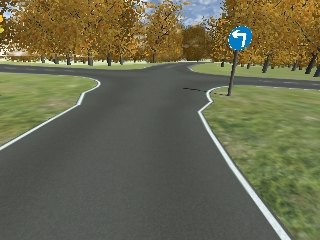left: (227, 26, 253, 50)
